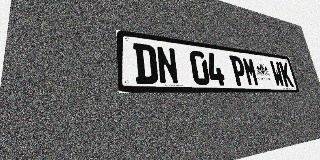0: (189, 50, 210, 85)
4: (205, 52, 226, 85)
D: (133, 43, 159, 84)
K: (279, 62, 294, 87)
M: (242, 57, 260, 86)
N: (156, 46, 180, 85)
P: (229, 55, 248, 86)
W: (269, 60, 285, 87)
